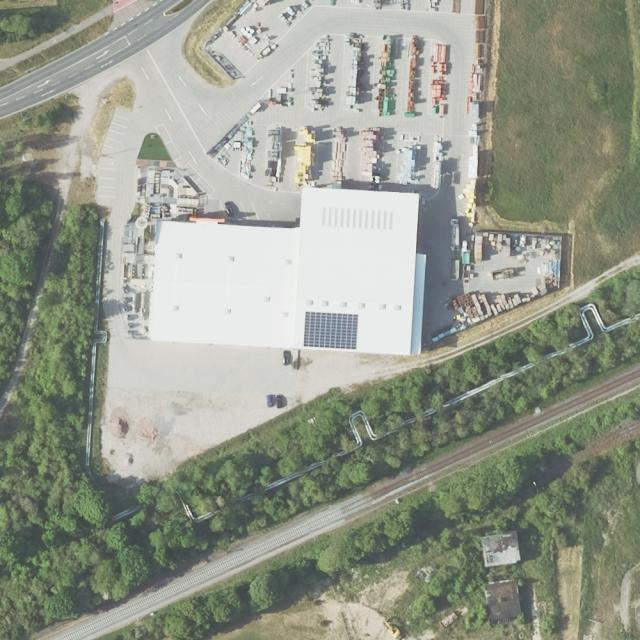PV: (303, 311, 358, 349)
